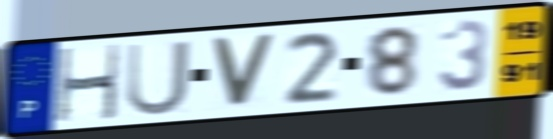2: (282, 29, 341, 107)
3: (436, 17, 489, 95)
8: (363, 23, 424, 98)
H: (54, 42, 122, 126)
U: (124, 38, 193, 119)
V: (207, 33, 279, 111)
